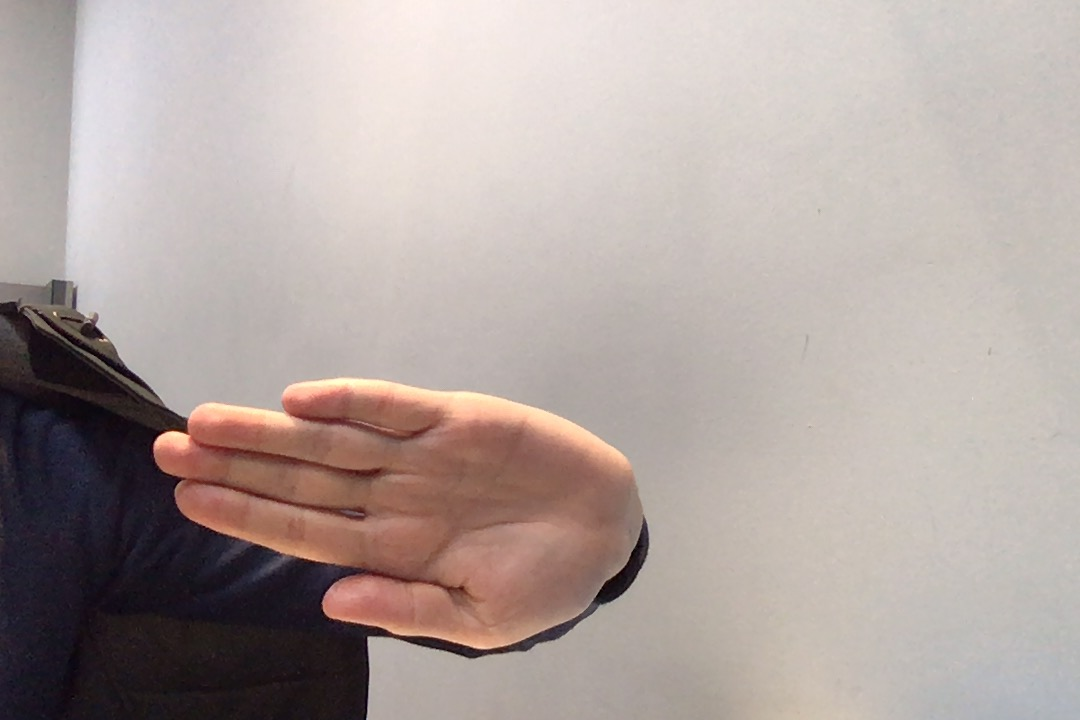palmhand: (138, 364, 657, 664)
